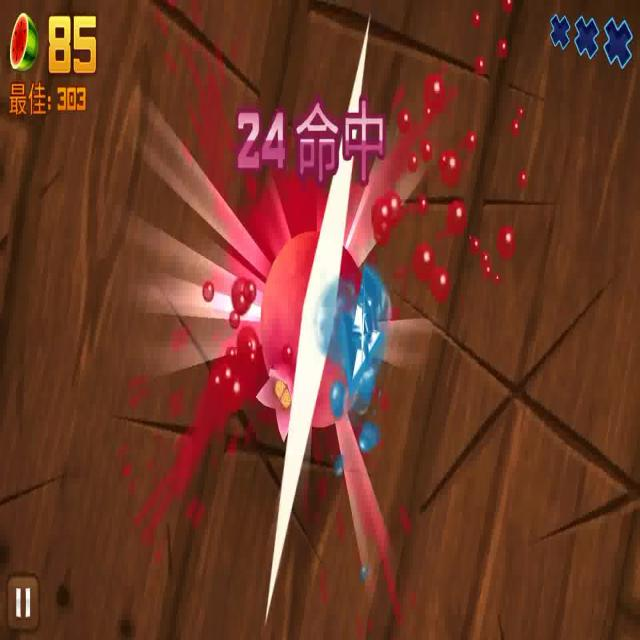fruit: (259, 231, 365, 408)
